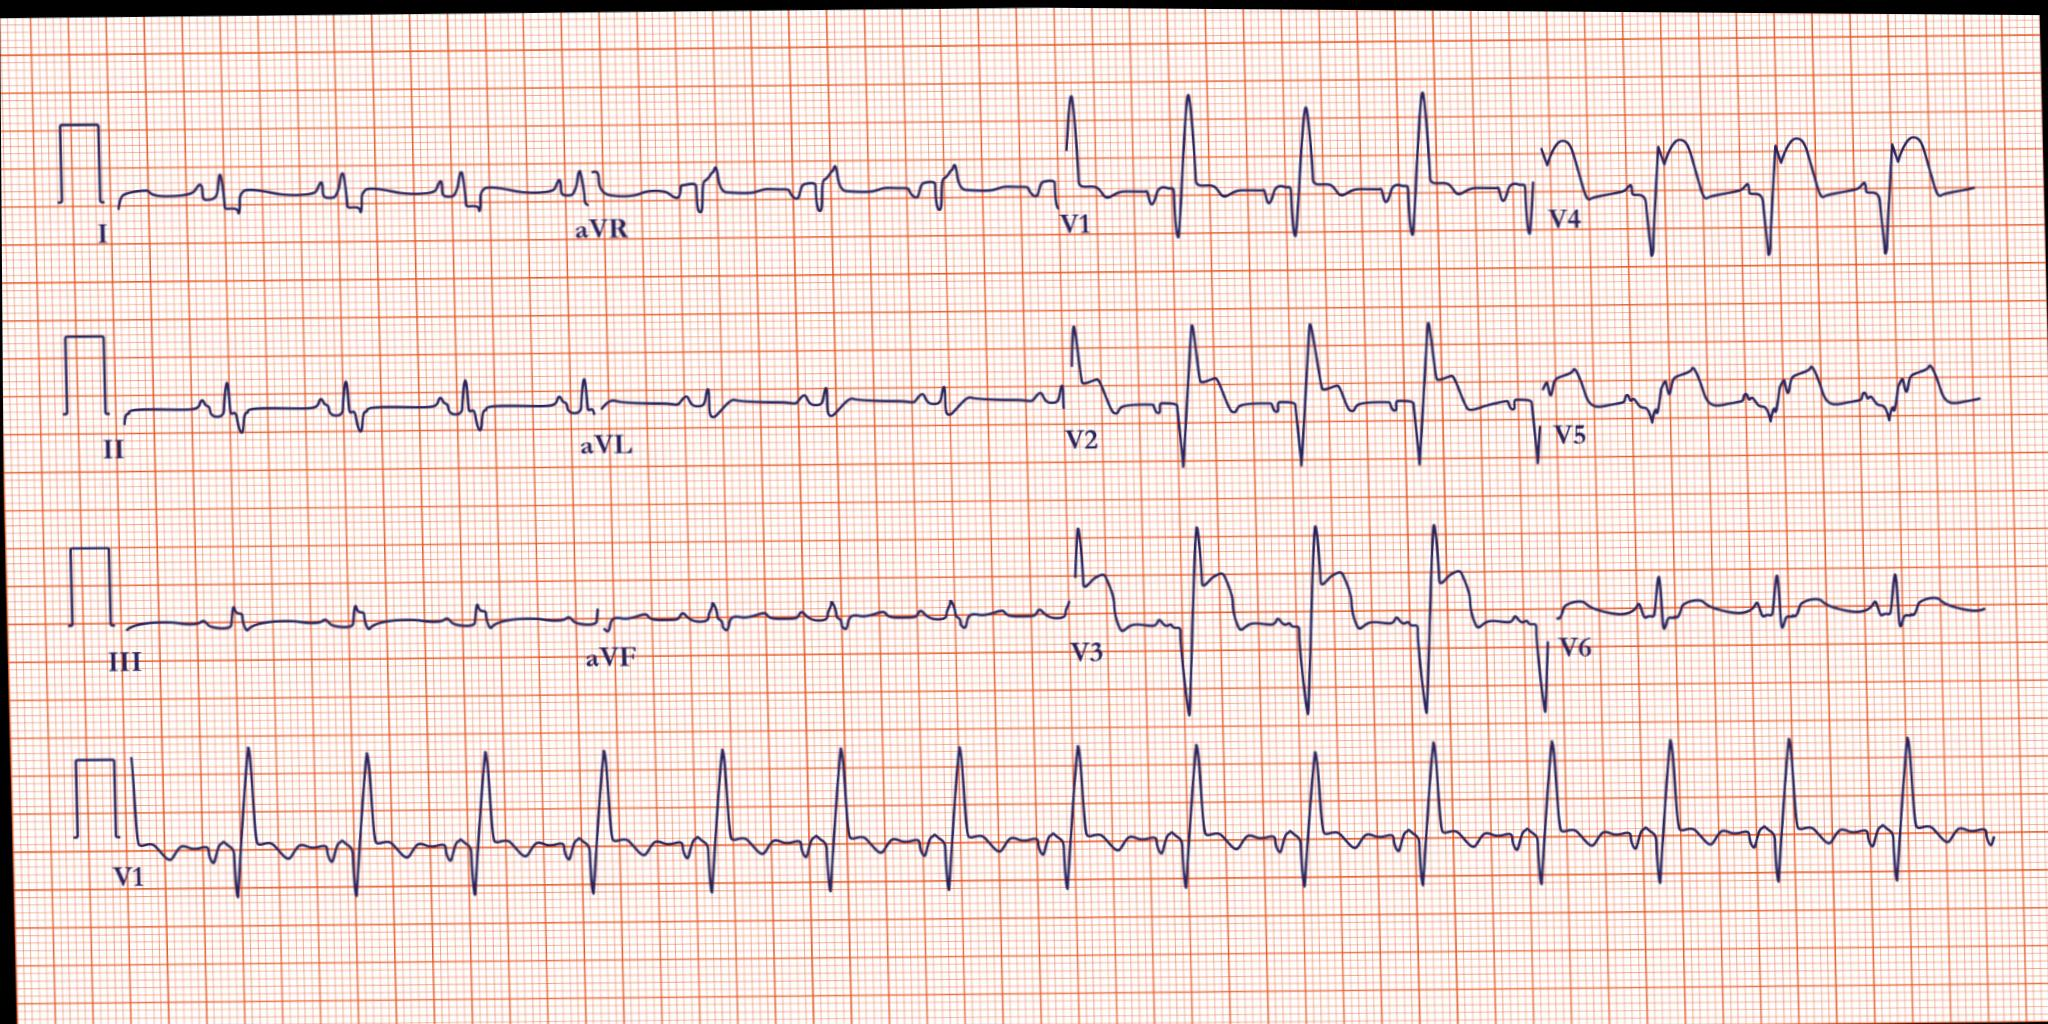Lead_I: (85, 124, 554, 273)
Lead_II: (95, 342, 562, 486)
Lead_III: (95, 550, 572, 712)
Lead_V1: (1049, 64, 1541, 283)
Lead_V2: (1059, 299, 1546, 512)
Lead_V3: (1059, 492, 1562, 751)
Lead_V4: (1540, 77, 1985, 268)
Lead_V5: (1539, 310, 1997, 488)
Lead_V6: (1552, 532, 2005, 673)
Lead_aVF: (562, 526, 1071, 708)
Lead_aVL: (560, 328, 1070, 488)
Lead_aVR: (552, 111, 1059, 266)
